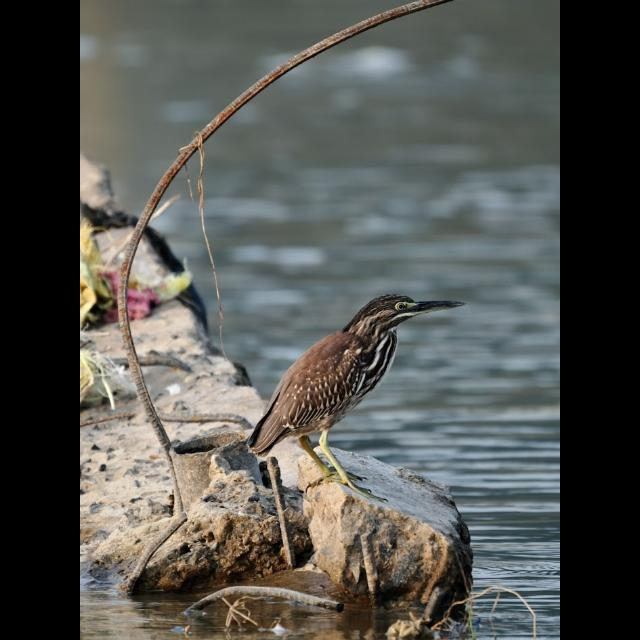heron: (243, 282, 472, 546)
